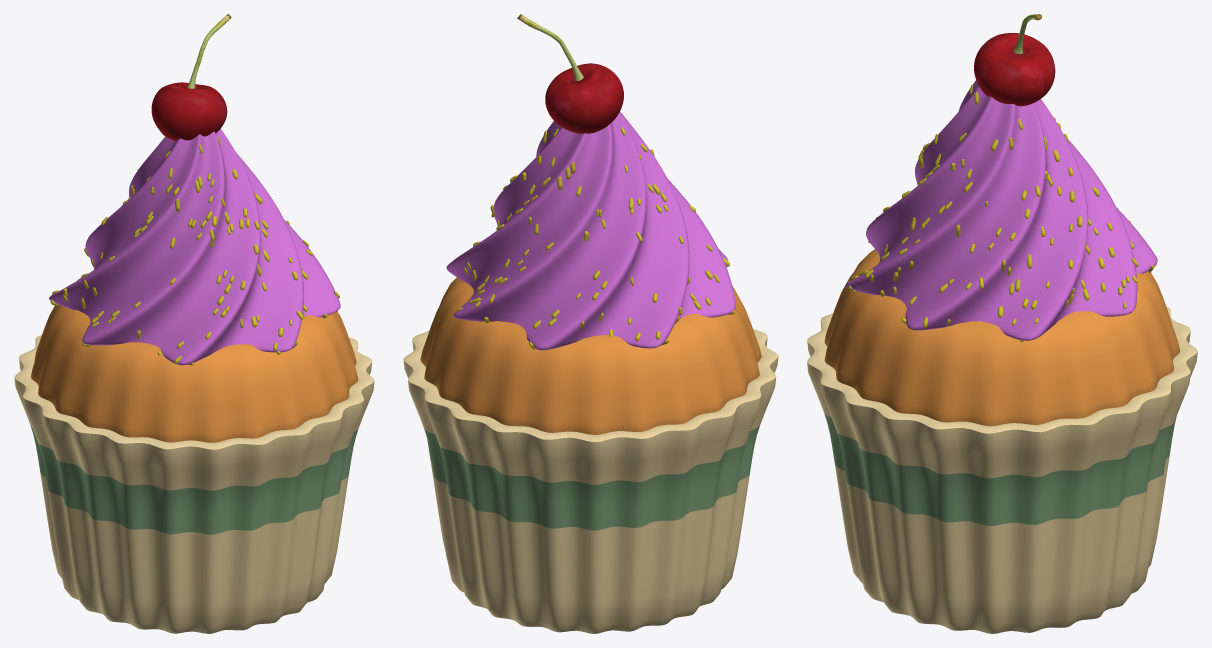
The model's file is cupcake2.glb.
The picture shows the model from 3 angles, left to right: view 1: azimuth 30°, elevation 25°; view 2: azimuth 150°, elevation 25°; view 3: azimuth 270°, elevation 25°; orthographic projection. The views are drawn at different scales.
Parts seen in each view (by area): view 1: envase, crema, chocolate, cherry; view 2: envase, crema, chocolate, cherry; view 3: envase, crema, chocolate, cherry.
Boxes of the visible parts, box(x1,y1,x2,y2) form: envase: box(14, 335, 374, 633); crema: box(49, 128, 340, 365); chocolate: box(30, 278, 358, 442); cherry: box(151, 14, 231, 140); envase: box(403, 329, 778, 633); crema: box(446, 111, 735, 350); chocolate: box(420, 277, 761, 434); cherry: box(517, 14, 623, 133); envase: box(807, 307, 1197, 633); crema: box(845, 80, 1157, 340); chocolate: box(824, 249, 1179, 426); cherry: box(974, 14, 1055, 106).
Size of the model in its own units: 1.99 by 3.41 by 1.99.
6 materials, 1 textured.
